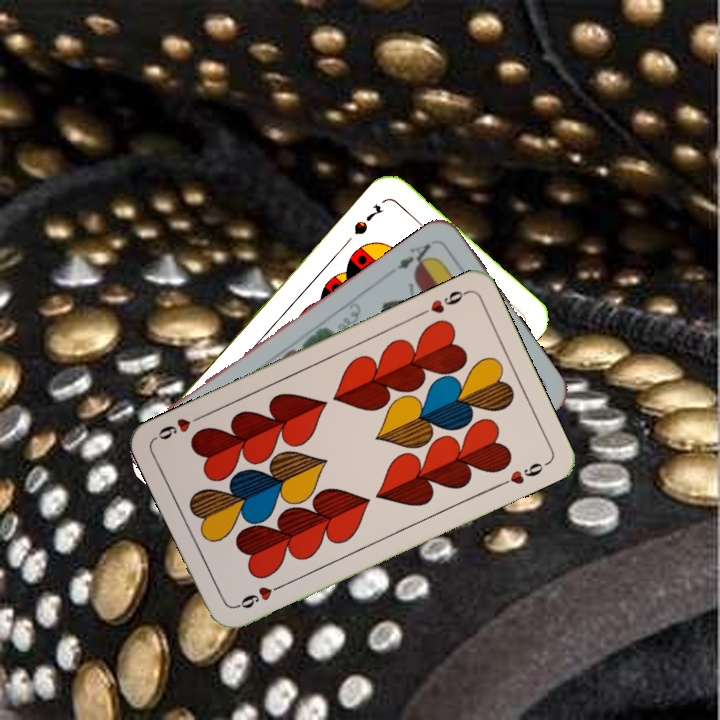EA: (393, 237, 437, 275)
H9: (231, 579, 287, 612), (415, 286, 471, 318)
S7: (350, 200, 387, 238)
